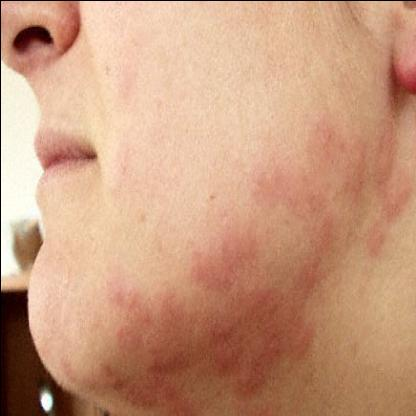Bed Bug: (104, 290, 320, 412), (245, 112, 411, 212), (181, 214, 260, 288), (298, 215, 350, 286), (358, 220, 394, 262)
